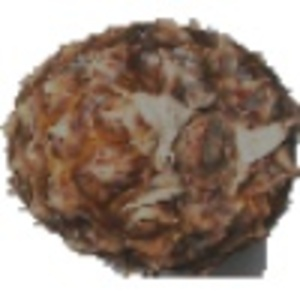abacaxi: (4, 33, 296, 267)
